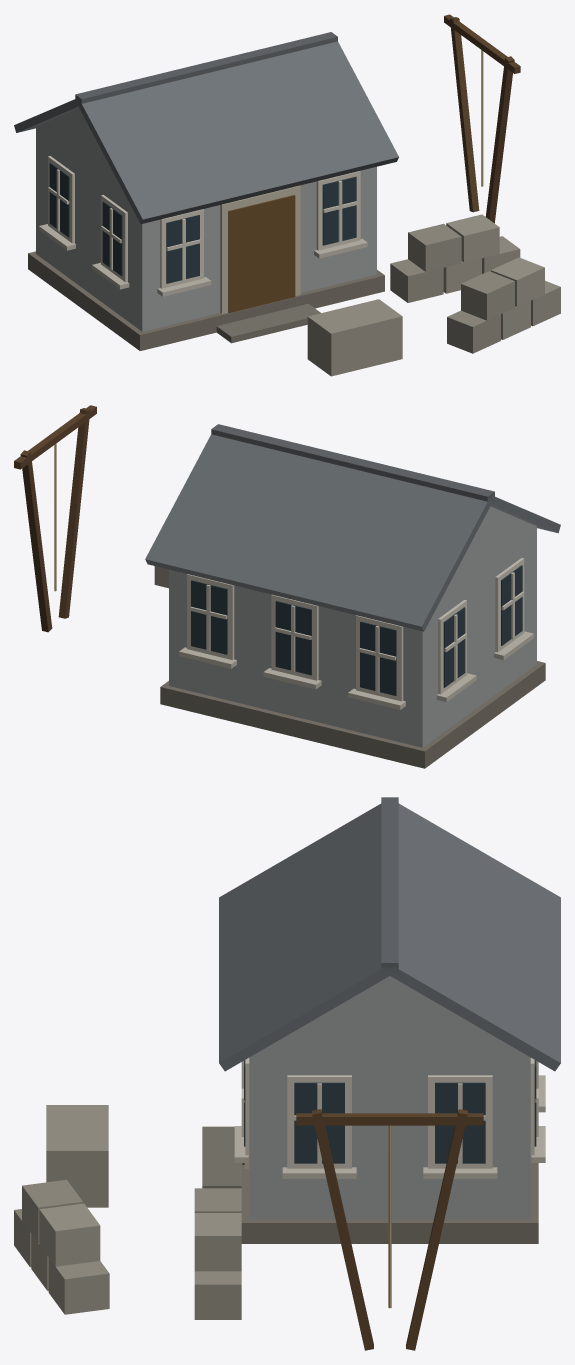
Rendered from procedural_mason@6.glb.
3 renders of one model, top to bottom at view 1: azimuth 30°, elevation 25°; view 2: azimuth 150°, elevation 25°; view 3: azimuth 270°, elevation 25°, orthographic. The views are drawn at different scales.
Parts seen in each view (by area): view 1: part_0; view 2: part_0; view 3: part_0.
Part boxes in pixels (left/top/right/bottom): part_0: left=14, top=14, right=560, bottom=376; part_0: left=14, top=405, right=560, bottom=768; part_0: left=14, top=797, right=560, bottom=1350.
Size of the model in its own units: 7.97 by 4.1 by 7.
